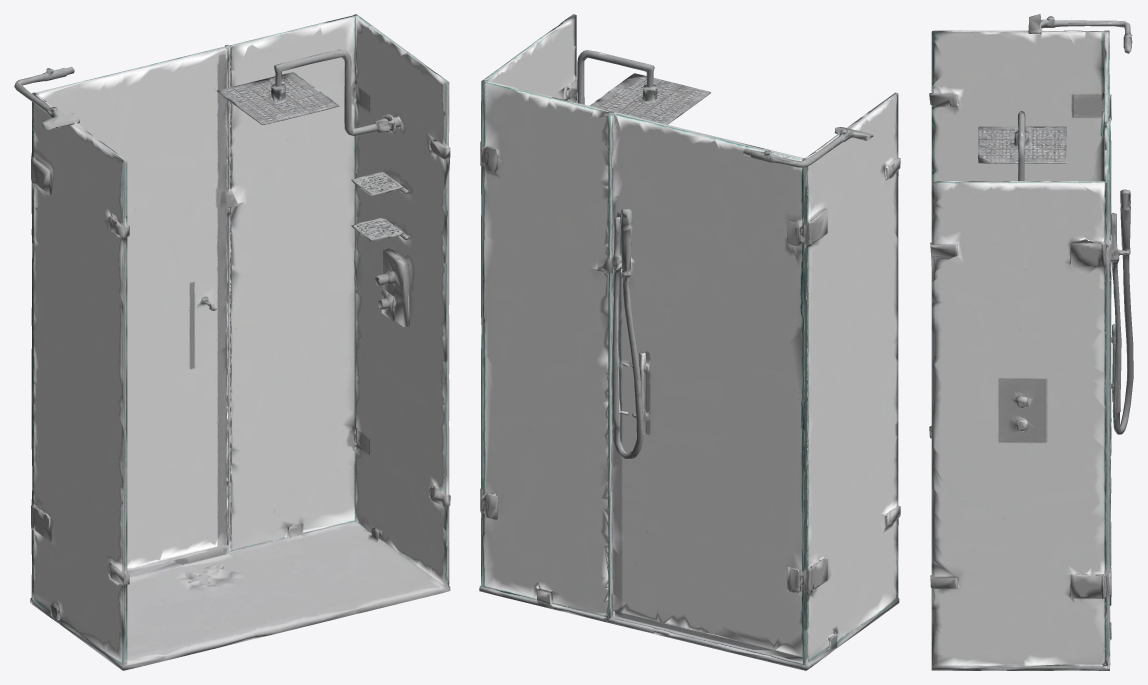
The model's file is Glass Shower Enclosure.glb.
The picture shows the model from 3 angles, left to right: view 1: azimuth 30°, elevation 25°; view 2: azimuth 150°, elevation 25°; view 3: azimuth 270°, elevation 25°; orthographic projection. The views are drawn at different scales.
Visible parts, largest first — view 1: Mesh_0.004; view 2: Mesh_0.004; view 3: Mesh_0.004.
Boxes of the visible parts, x1,y1,x2,y2 form: Mesh_0.004: (14, 14, 450, 670); Mesh_0.004: (479, 14, 900, 670); Mesh_0.004: (929, 14, 1133, 670).
Size of the model in its own units: 1.36 by 1.9 by 0.7023.
1 material, 1 textured.
